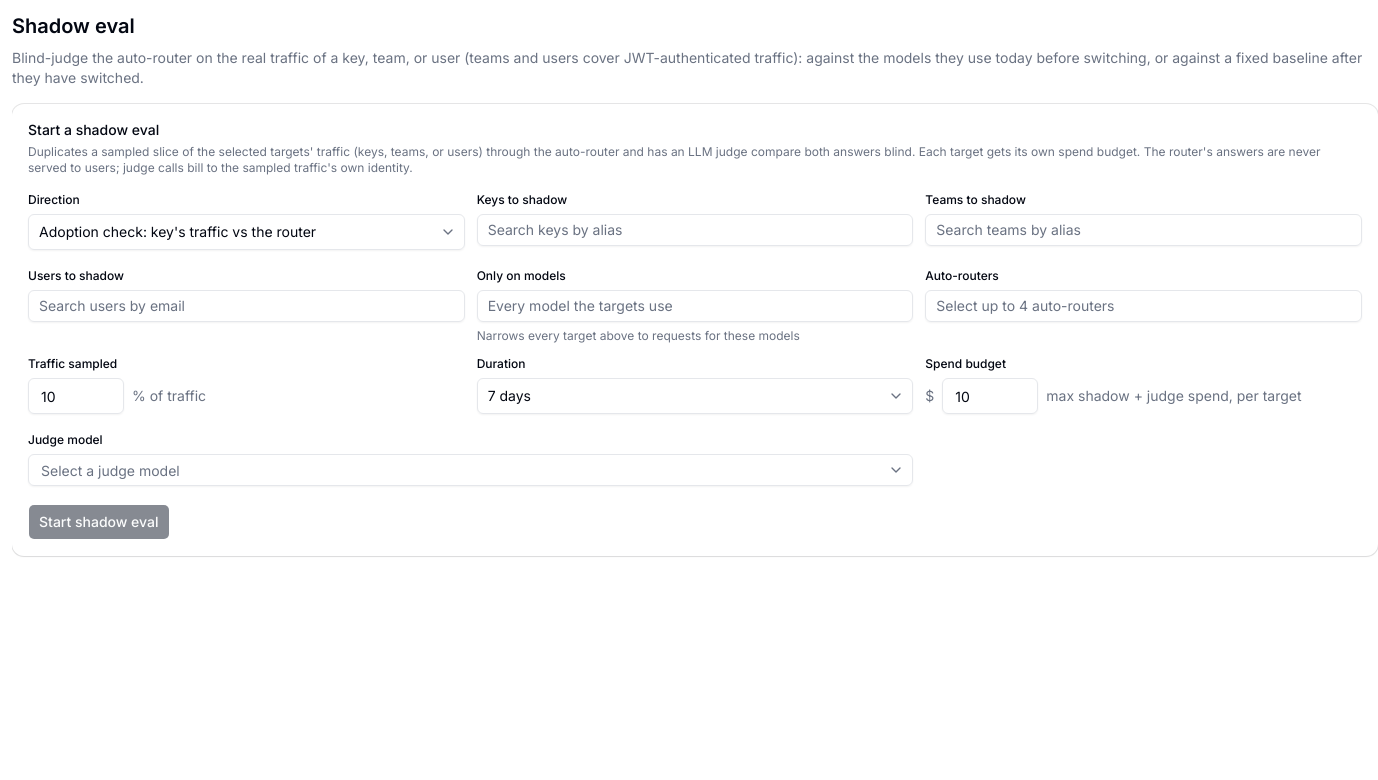
it: ShadowEvalSection › labels only configured judge recommendations
This screenshot has width=1378, height=780.
Step 1. Click the dropdown with placeholder "Select a judge model" → click(457, 470), box [29,452,884,488]
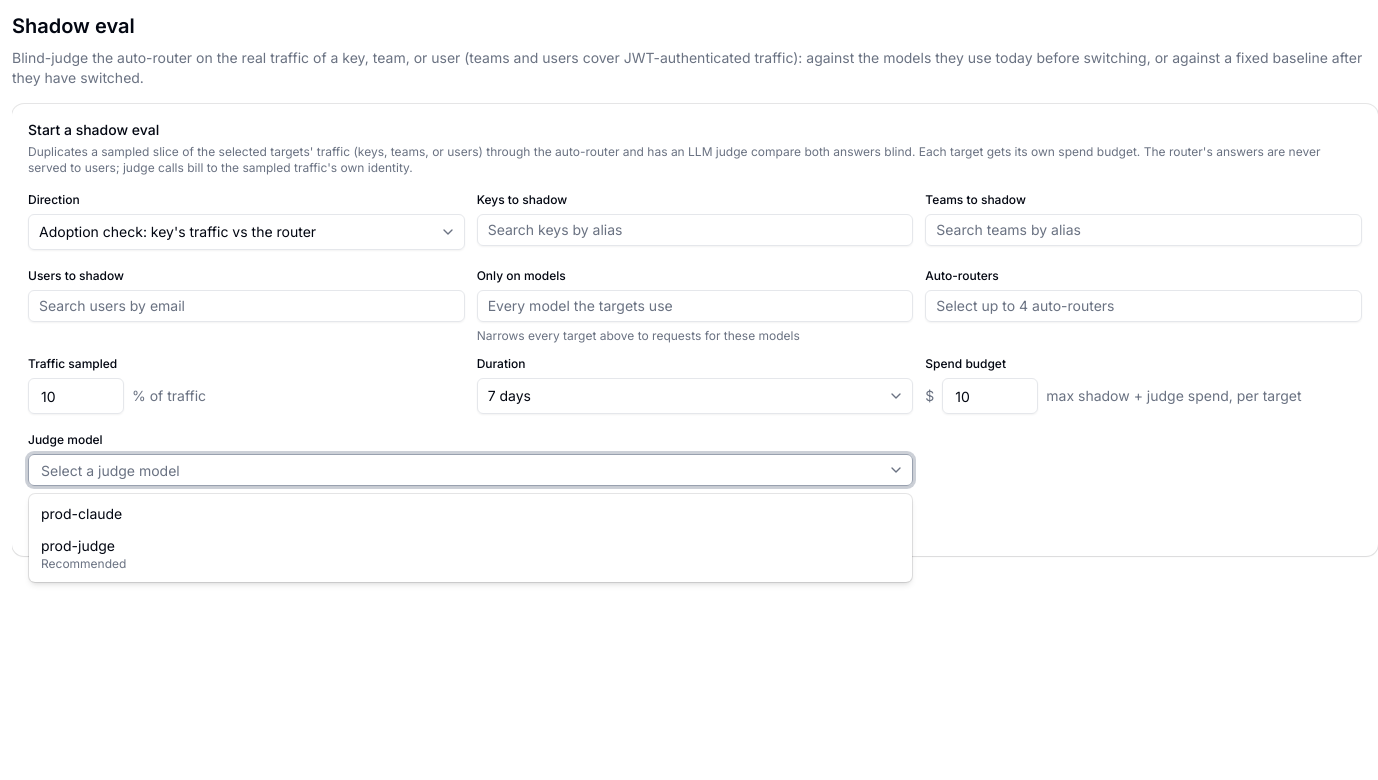
Expected: the option "prod-judge Recommended" is shown, [41,537,126,571]
Step 2. Press Escape
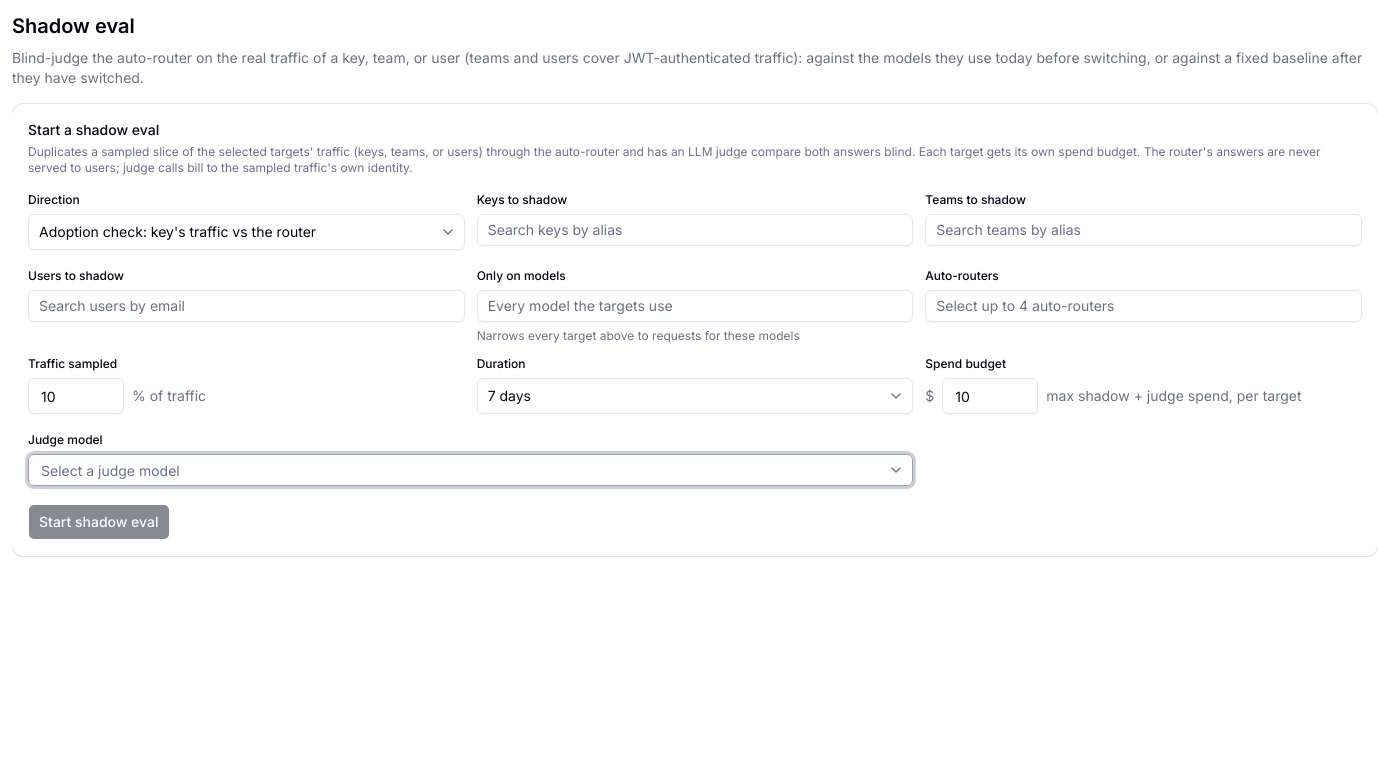
Step 3. Click the text "Adoption check: key's traffic vs the router" → click(178, 232), box [39,223,316,240]
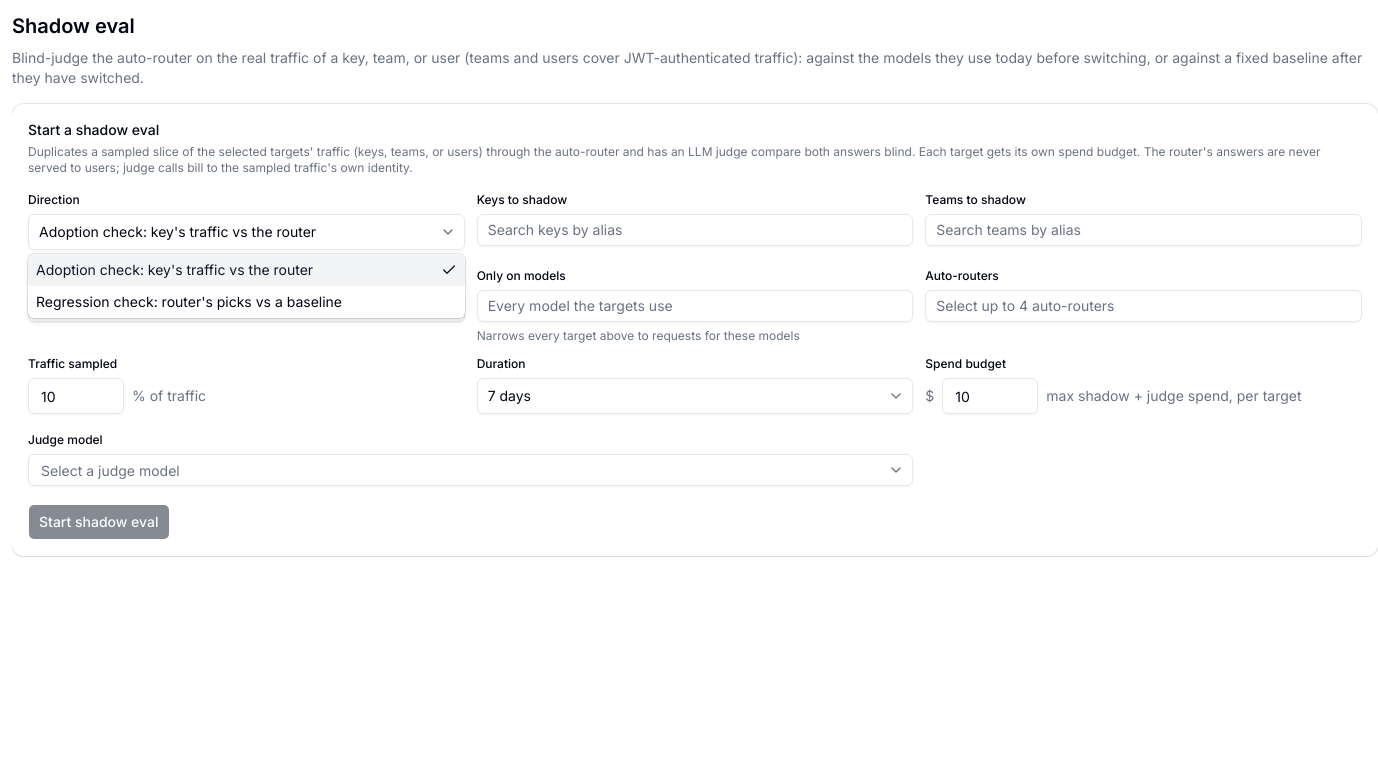
Step 4. Click the option "Regression check: router's picks vs a baseline" → click(189, 302), box [36,293,342,310]
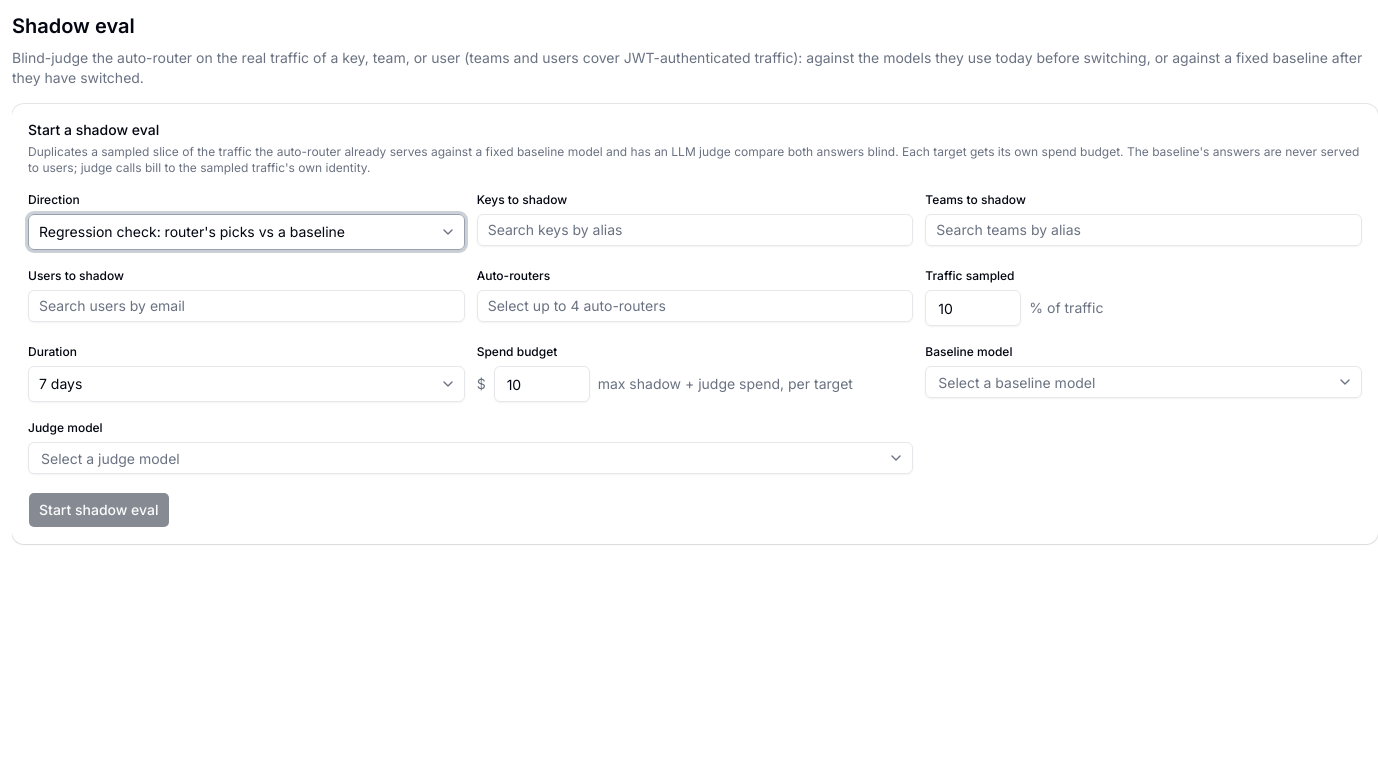
Step 5. Click the dropdown with placeholder "Select a baseline model" → click(1130, 382), box [926,364,1333,400]
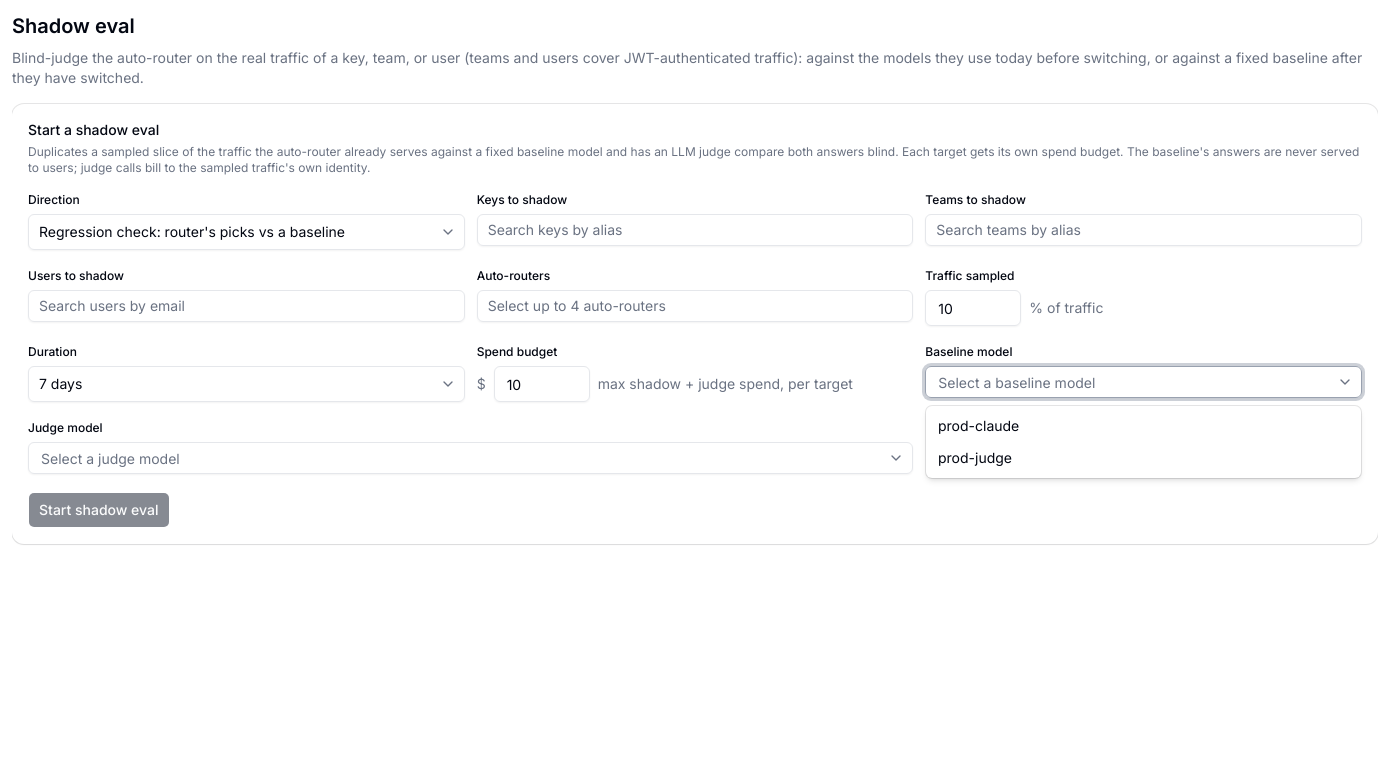
Expected: the option "Recommended" is not shown
Expected: the option "prod-judge" is shown, [938,449,1012,466]
